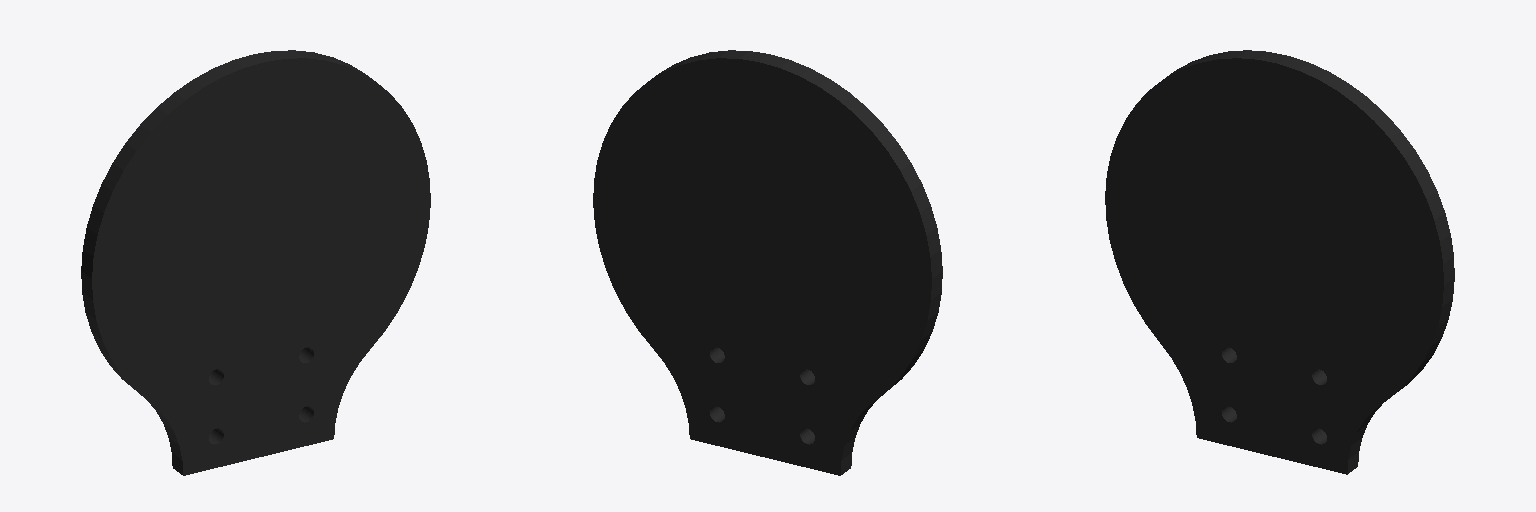
File: cache_foot.obj
3 renders of one model, left to right at view 1: azimuth 30°, elevation 25°; view 2: azimuth 150°, elevation 25°; view 3: azimuth 330°, elevation 25°, orthographic.
Visible parts, largest first — view 1: ShapeIndexedFaceSet; view 2: ShapeIndexedFaceSet; view 3: ShapeIndexedFaceSet.
Boxes of the visible parts, <box> form: ShapeIndexedFaceSet: <box>81,50,430,475</box>; ShapeIndexedFaceSet: <box>593,50,942,475</box>; ShapeIndexedFaceSet: <box>1105,50,1454,474</box>.
Size of the model in its own units: 0.09 by 0.1 by 0.005.